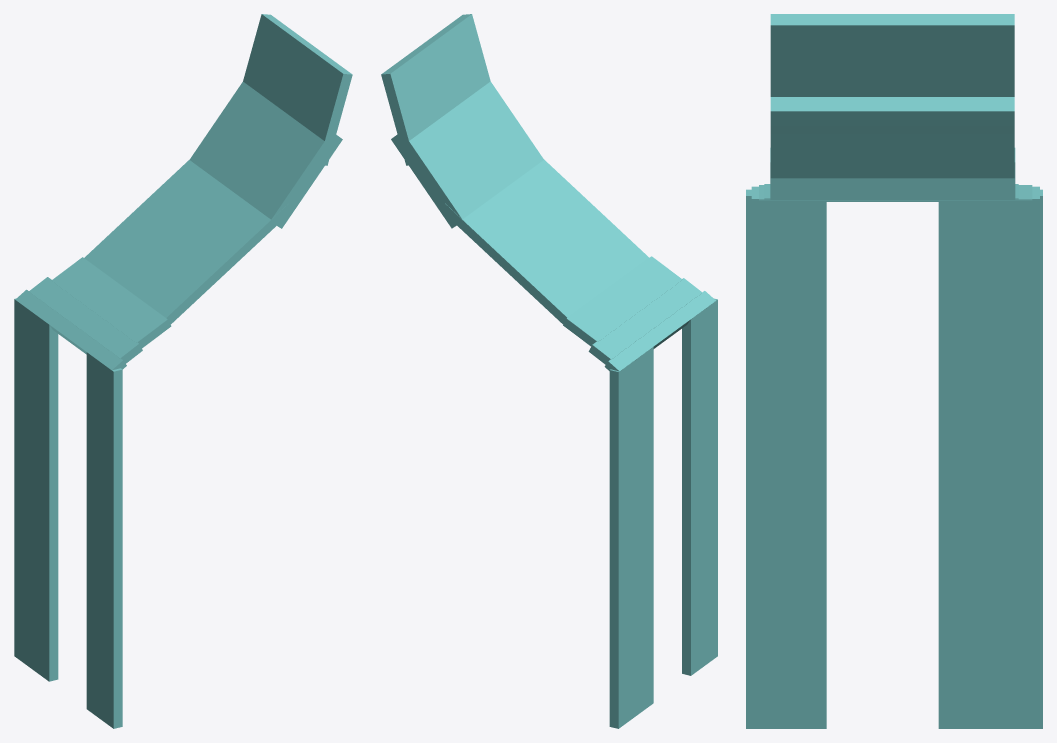
Rendered from waterfall.fbx.
The picture shows the model from 3 angles, left to right: view 1: azimuth 30°, elevation 25°; view 2: azimuth 150°, elevation 25°; view 3: azimuth 270°, elevation 25°; orthographic projection. The views are drawn at different scales.
Visible parts, largest first — view 1: Ground__41_, Ground__31_, Ground__42_, Ground__27_, Ground__39_, Ground__32_, Ground__37_, Ground__38_; view 2: Ground__41_, Ground__31_, Ground__42_, Ground__27_, Ground__39_, Ground__32_, Ground__37_, Ground__38_; view 3: Ground__41_, Ground__42_, Ground__39_, Ground__27_, Ground__31_, Ground__37_.
Part boxes in pixels (x1,y1,x2,y2): Ground__41_: (14, 298, 58, 681); Ground__31_: (84, 160, 293, 324); Ground__42_: (86, 352, 122, 728); Ground__27_: (189, 82, 342, 228); Ground__39_: (243, 14, 352, 165); Ground__32_: (51, 257, 171, 348); Ground__37_: (29, 277, 142, 363); Ground__38_: (15, 289, 126, 370); Ground__41_: (609, 347, 653, 728); Ground__31_: (440, 159, 648, 324); Ground__42_: (682, 298, 717, 675); Ground__27_: (391, 81, 543, 228); Ground__39_: (381, 14, 490, 165); Ground__32_: (563, 256, 682, 346); Ground__37_: (588, 278, 702, 364); Ground__38_: (604, 291, 715, 371); Ground__41_: (938, 189, 1042, 728); Ground__42_: (746, 189, 826, 728); Ground__39_: (770, 14, 1014, 133); Ground__27_: (770, 97, 1014, 178); Ground__31_: (770, 148, 1015, 199); Ground__37_: (759, 185, 1032, 200).
Size of the model in its own units: 4729 by 10797 by 3294.
